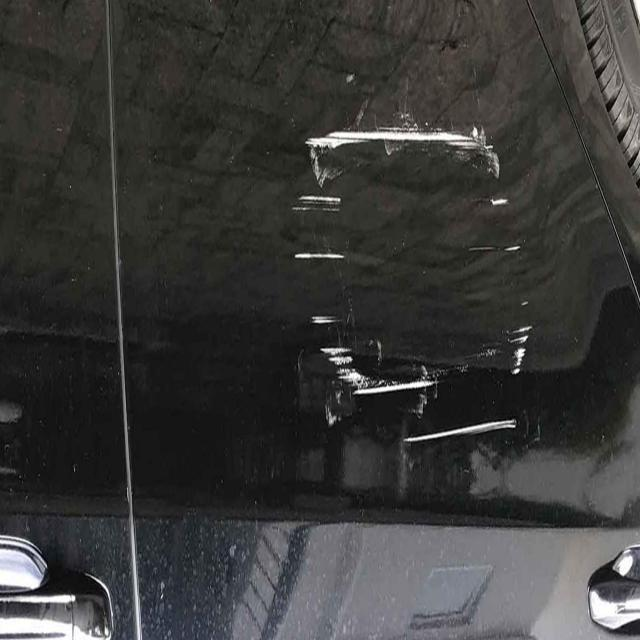scratch: (297, 108, 506, 179), (315, 334, 452, 429), (283, 182, 358, 272), (398, 409, 527, 453), (498, 291, 536, 396), (484, 189, 529, 265), (304, 305, 351, 335)
